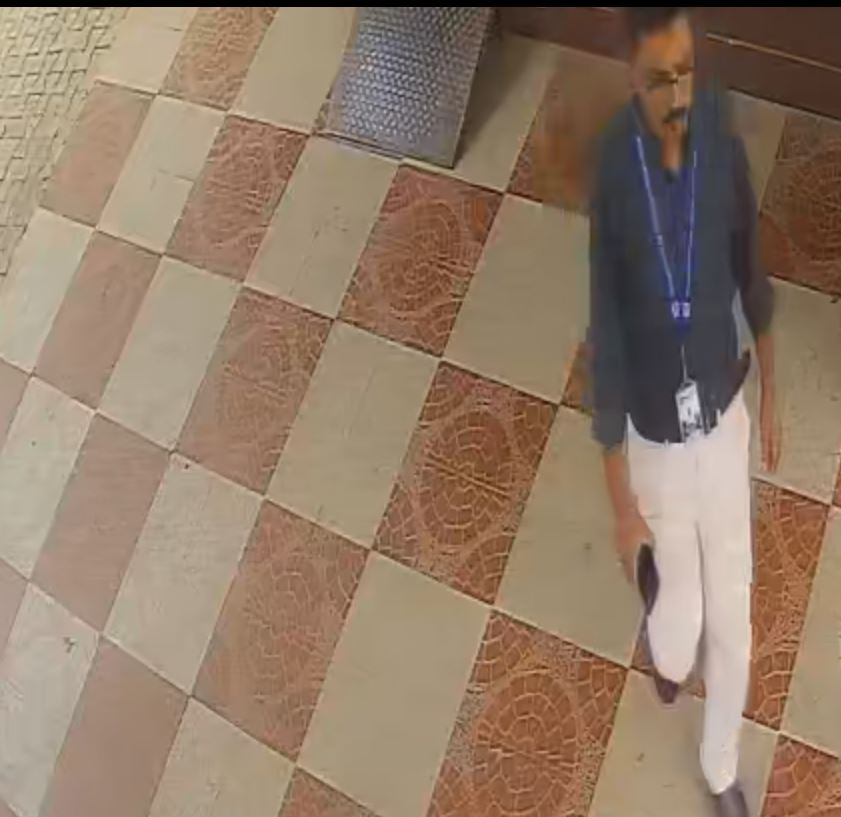not intruder: (595, 1, 764, 817)
